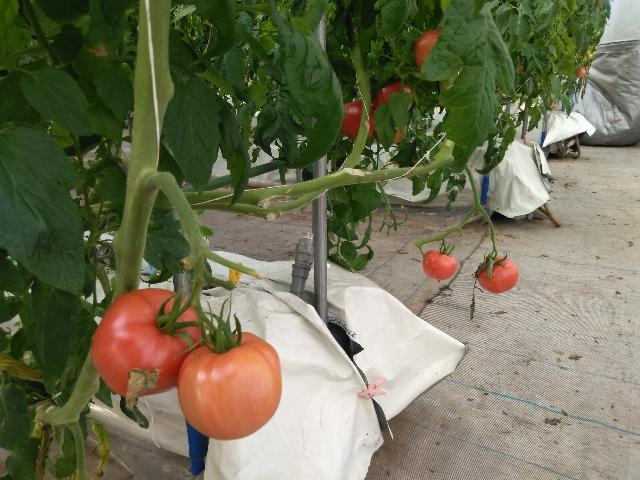b_fully_ripened: (91, 288, 204, 397), (340, 100, 379, 140), (477, 257, 519, 294), (422, 249, 458, 280)
b_half_ripened: (176, 331, 282, 441)
